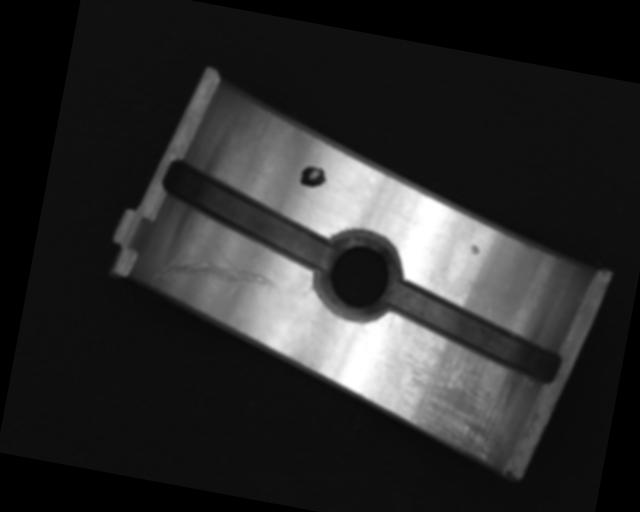blot: (297, 162, 329, 191)
bruise: (467, 244, 481, 255)
gap: (151, 154, 344, 273), (379, 279, 571, 385)
hole: (309, 228, 408, 327)
nick: (151, 230, 283, 300)
scratch: (388, 337, 521, 464)
